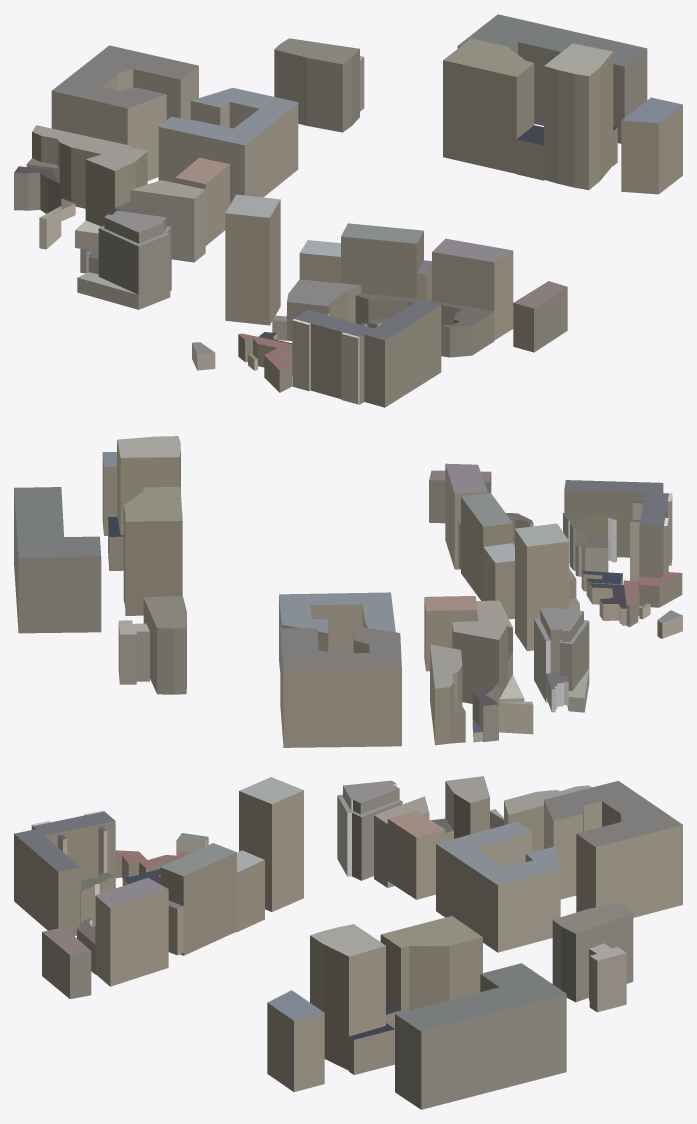
The picture shows the model from 3 angles, top to bottom: view 1: azimuth 30°, elevation 25°; view 2: azimuth 150°, elevation 25°; view 3: azimuth 270°, elevation 25°; orthographic projection. The views are drawn at different scales.
Parts seen in each view (by area): view 1: tuile; view 2: tuile; view 3: tuile.
Part boxes in pixels (<box>): tuile: <box>14,14,682,407</box>; tuile: <box>14,436,682,747</box>; tuile: <box>14,776,682,1109</box>.
Bounding box in the file's own units: 279 × 63.9 × 278.
